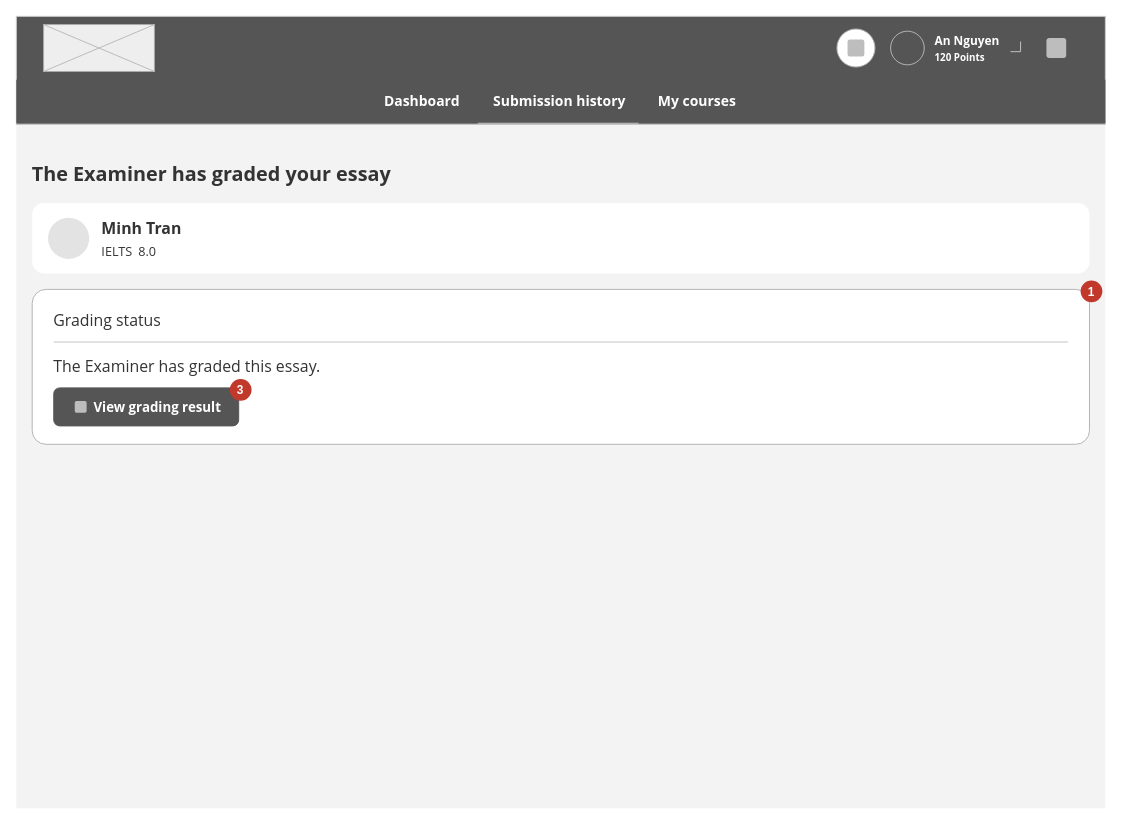
Some shapes in this 1122 by 825 pixel diagram are drawn without their labels. Each missing label, with the centre of its shape:
AN: (907,47)
MT: (68,237)
